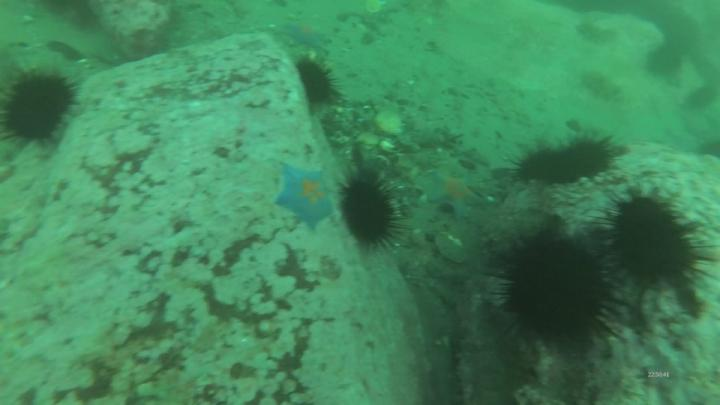echinus: (485, 222, 628, 361), (591, 184, 720, 306), (1, 62, 85, 147), (339, 164, 407, 258), (507, 141, 578, 187), (295, 55, 347, 112), (565, 130, 620, 180), (643, 42, 687, 79), (681, 82, 720, 112)
holothurian: (574, 66, 631, 107), (574, 20, 623, 50)
scallop: (434, 230, 474, 266)
starfish: (274, 160, 336, 233), (425, 163, 486, 225), (280, 20, 328, 53)
